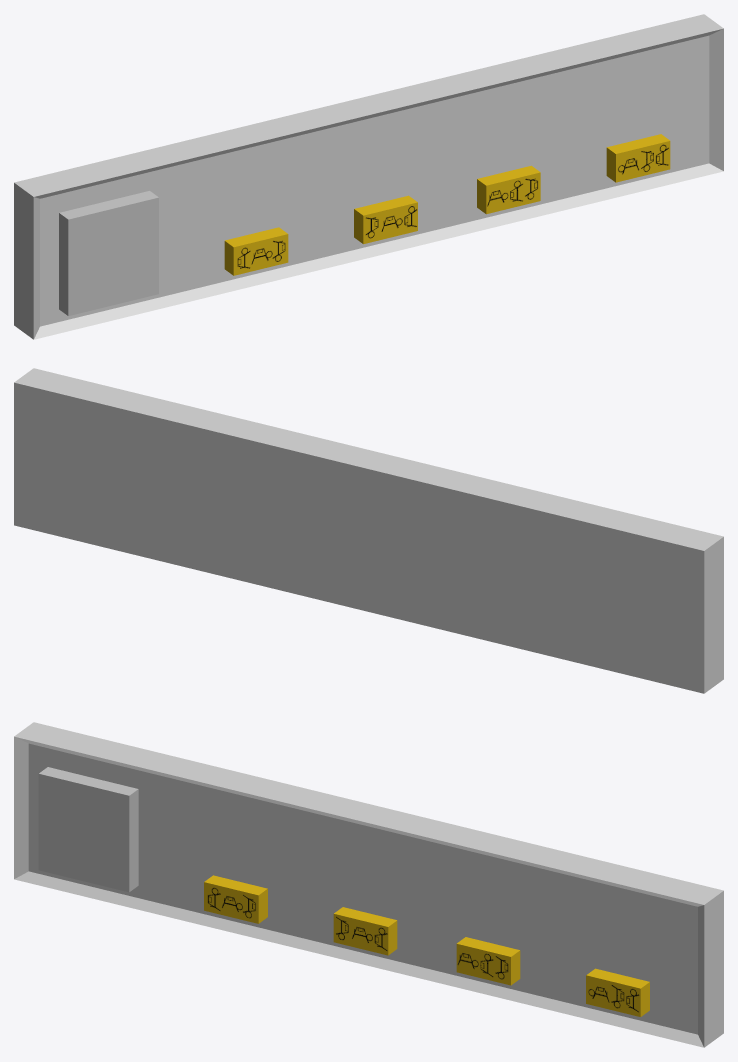
The model's file is 2nd room main.FBX.
3 views of the same model, one above another, from view 1: azimuth 30°, elevation 25°; view 2: azimuth 150°, elevation 25°; view 3: azimuth 330°, elevation 25° (orthographic).
Visible parts, largest first — view 1: Box001, Object001, Box002; view 2: Box001; view 3: Box001, Object001, Box002.
Part boxes in pixels (<box>): Box001: <box>14,14,723,339</box>; Object001: <box>59,191,158,315</box>; Box002: <box>224,134,670,275</box>; Box001: <box>14,368,723,693</box>; Box001: <box>14,722,723,1047</box>; Object001: <box>38,767,138,892</box>; Box002: <box>204,875,649,1016</box>.
Bounding box in the file's own units: 101 × 20 × 6.28.
